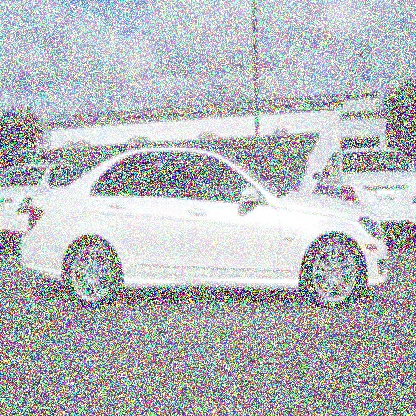Vehicle: (14, 124, 392, 370)
